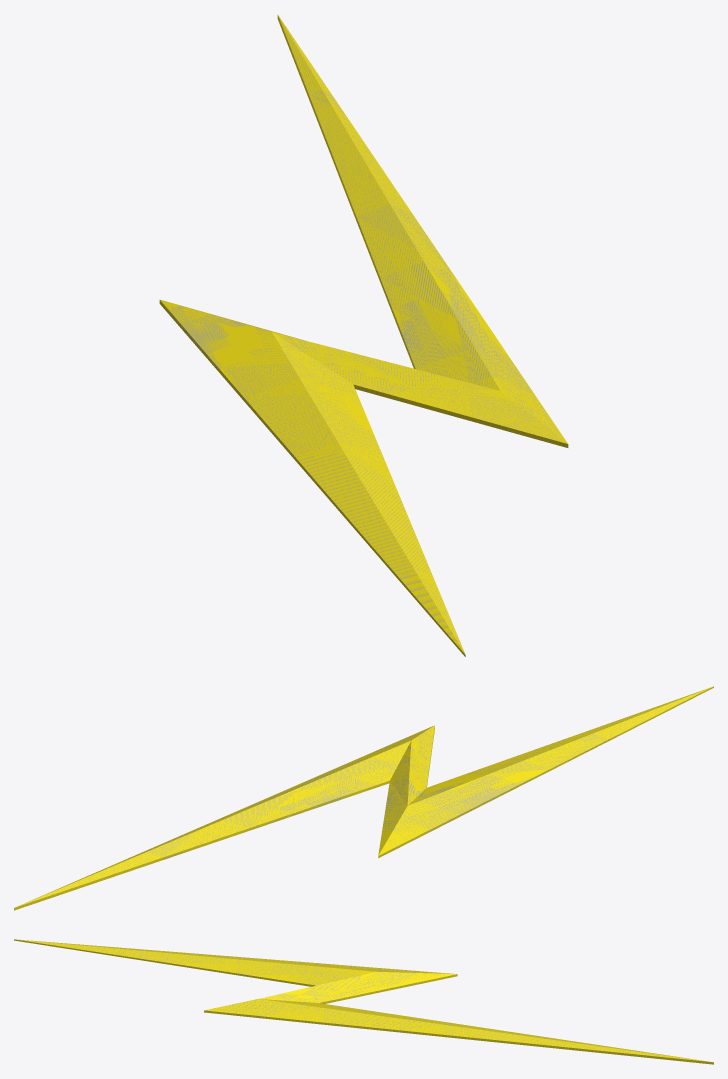
3 renders of one model, top to bottom at view 1: azimuth 30°, elevation 25°; view 2: azimuth 150°, elevation 25°; view 3: azimuth 270°, elevation 25°, orthographic. The views are drawn at different scales.
Parts seen in each view (by area): view 1: Lightning_Bolt; view 2: Lightning_Bolt; view 3: Lightning_Bolt.
Part boxes in pixels (x1,y1,x2,y2): Lightning_Bolt: [159, 14, 568, 656]; Lightning_Bolt: [14, 686, 713, 910]; Lightning_Bolt: [14, 939, 713, 1064].
Bounding box in the file's own units: 204 × 484 × 13.39.
